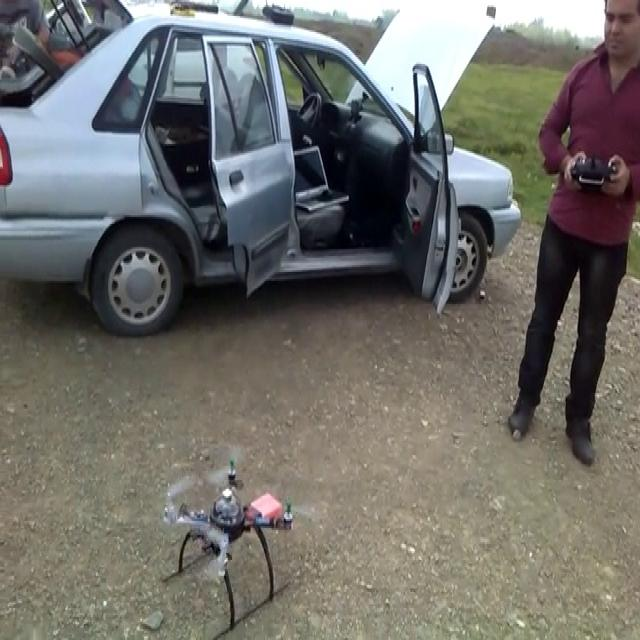drone: (139, 446, 327, 638)
